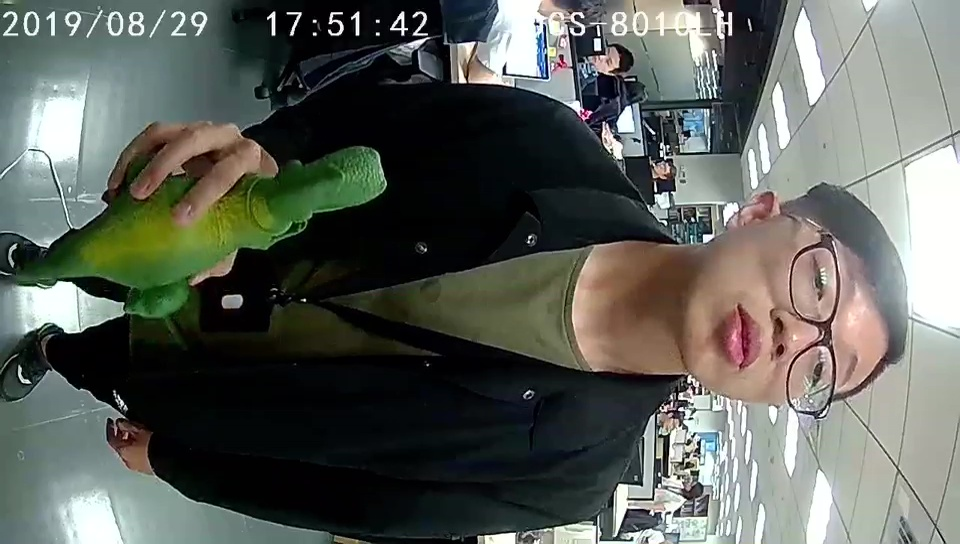rex: (78, 142, 386, 321)
